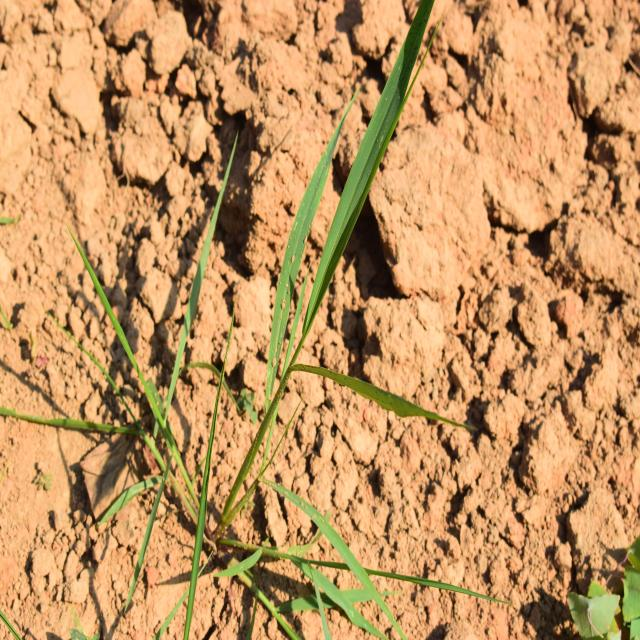green_foxtail: (250, 26, 424, 485)
